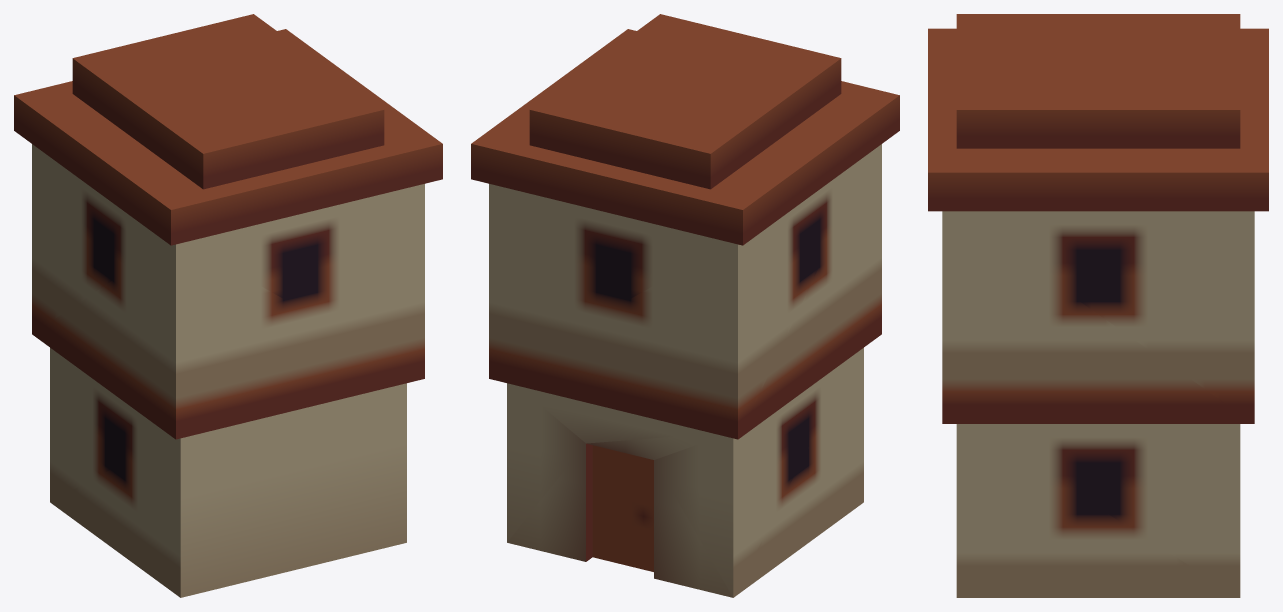
Rendered from mansion.dae.
3 renders of one model, left to right at view 1: azimuth 30°, elevation 25°; view 2: azimuth 150°, elevation 25°; view 3: azimuth 270°, elevation 25°, orthographic. The views are drawn at different scales.
Visible parts, largest first — view 1: mansion.Merged; view 2: mansion.Merged; view 3: mansion.Merged.
Part boxes in pixels (x1,y1,x2,y2): mansion.Merged: (14, 14, 442, 597); mansion.Merged: (471, 14, 899, 597); mansion.Merged: (928, 14, 1268, 597).
Bounding box in the file's own units: 6 × 6 × 9.25.
1 material, 1 textured.
